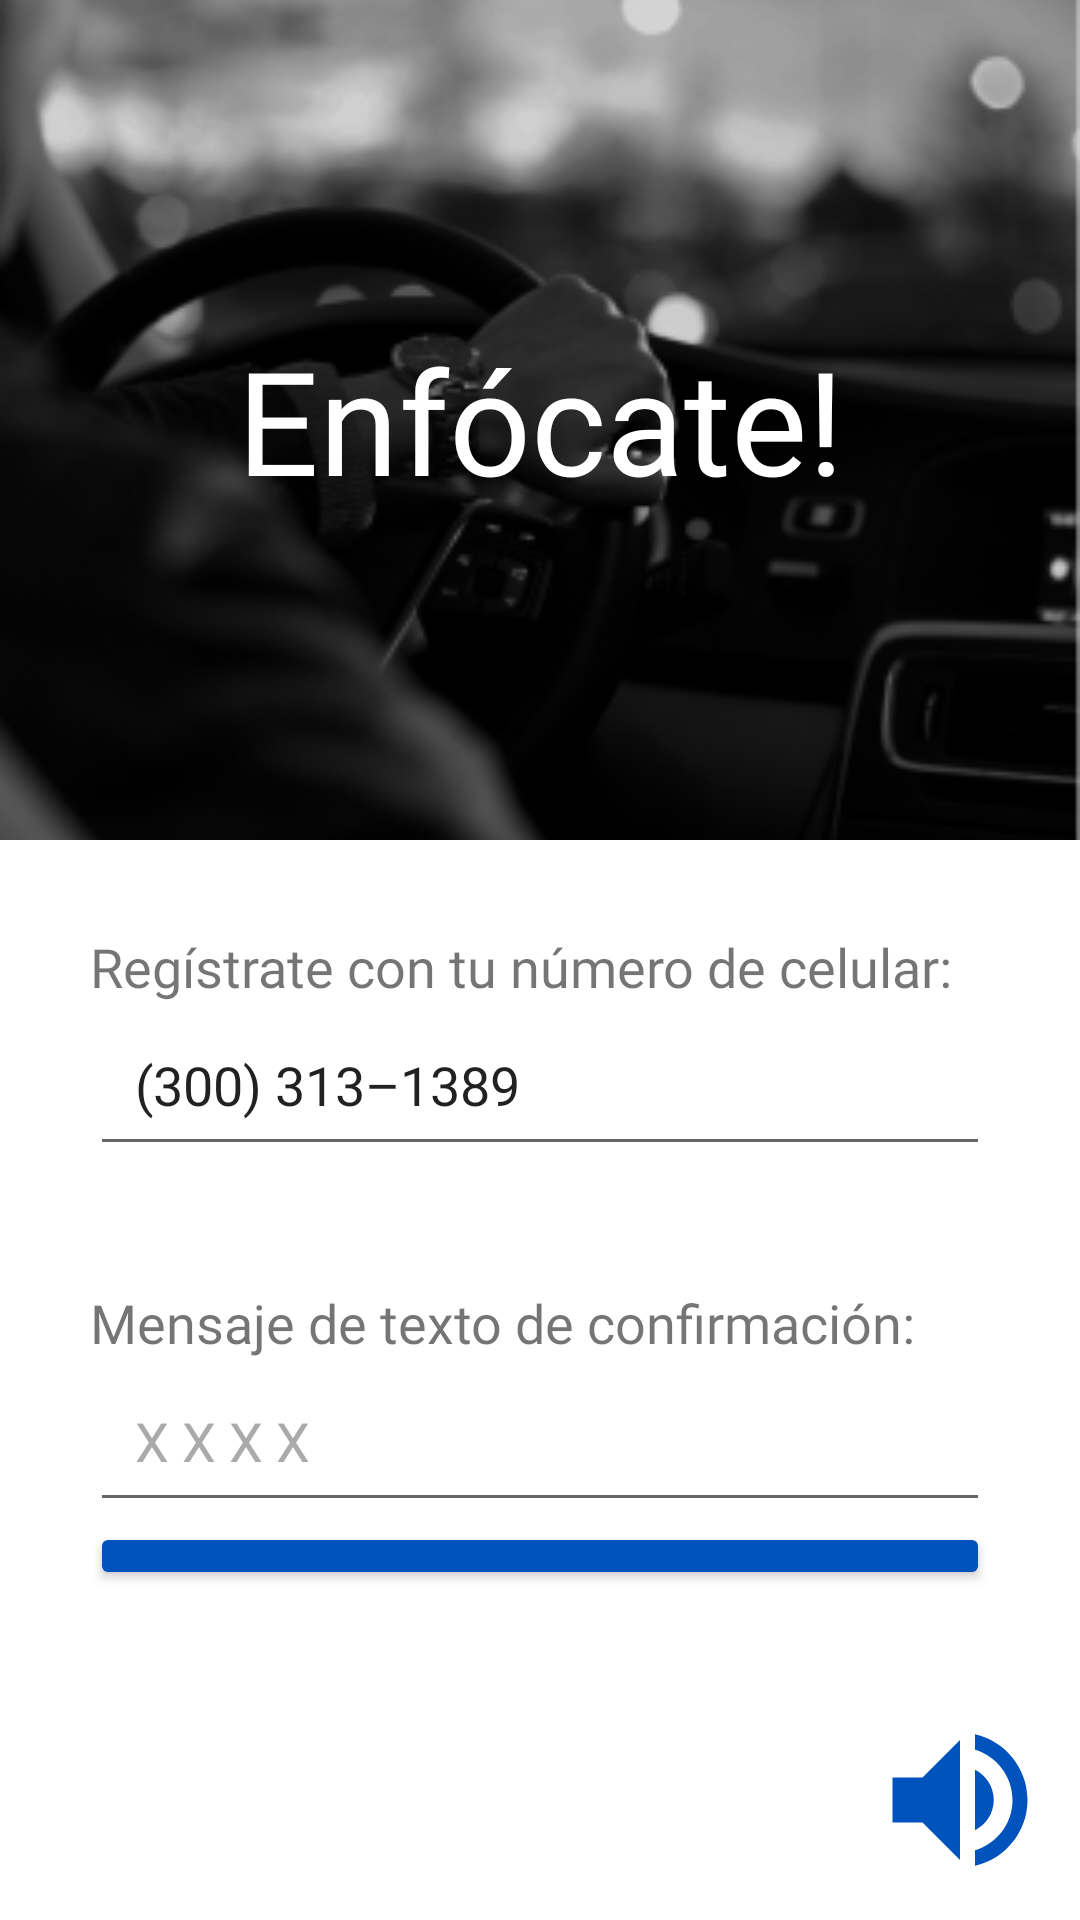

Where to tap for icons on this 1080w x 1920h app screen, as [x,y]:
volume up: [960,1800]
